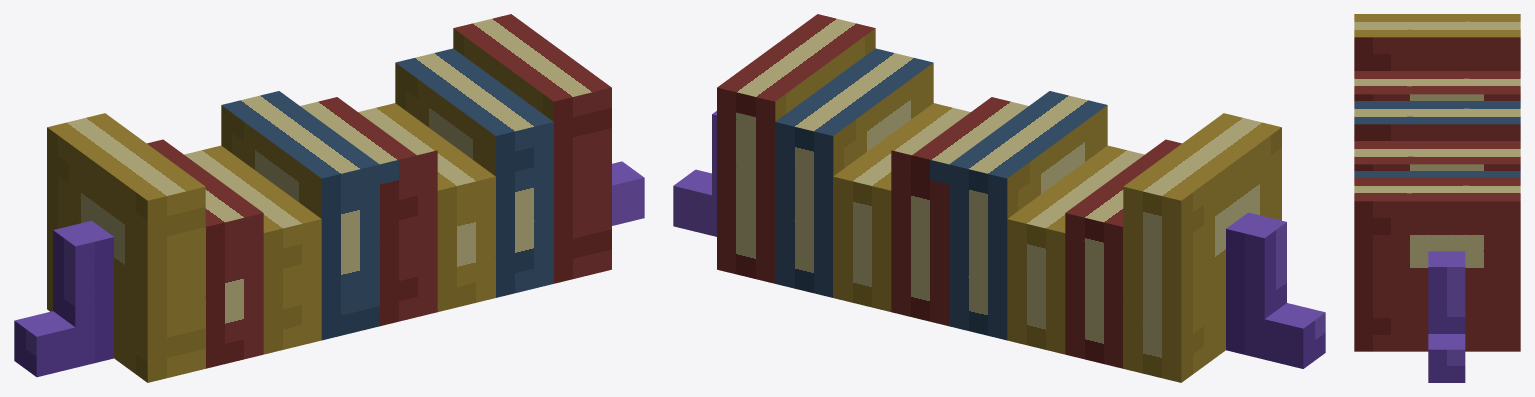
File: int_parlor_booksao.fezao.glb
3 views of the same model, side by side, from view 1: azimuth 30°, elevation 25°; view 2: azimuth 150°, elevation 25°; view 3: azimuth 270°, elevation 25° (orthographic). The views are drawn at different scales.
Parts seen in each view (by area): view 1: INT_PARLOR_BOOKSAO; view 2: INT_PARLOR_BOOKSAO; view 3: INT_PARLOR_BOOKSAO.
Boxes of the visible parts, box(x1,y1,x2,y2) form: INT_PARLOR_BOOKSAO: box(14, 14, 644, 382); INT_PARLOR_BOOKSAO: box(673, 14, 1325, 382); INT_PARLOR_BOOKSAO: box(1354, 14, 1520, 382).
Bounding box in the file's own units: 2 × 0.5625 × 0.5625.
Materials: 1 (1 with a texture image).
